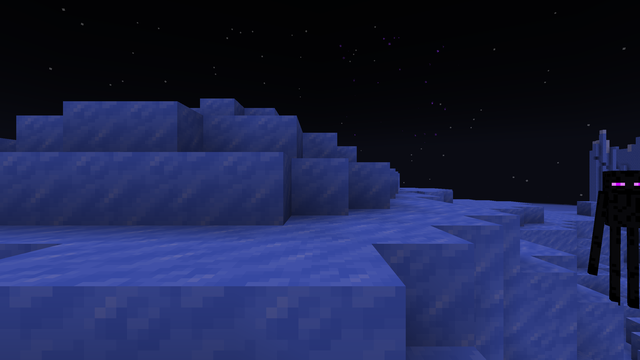endermens: (594, 166, 638, 309)
